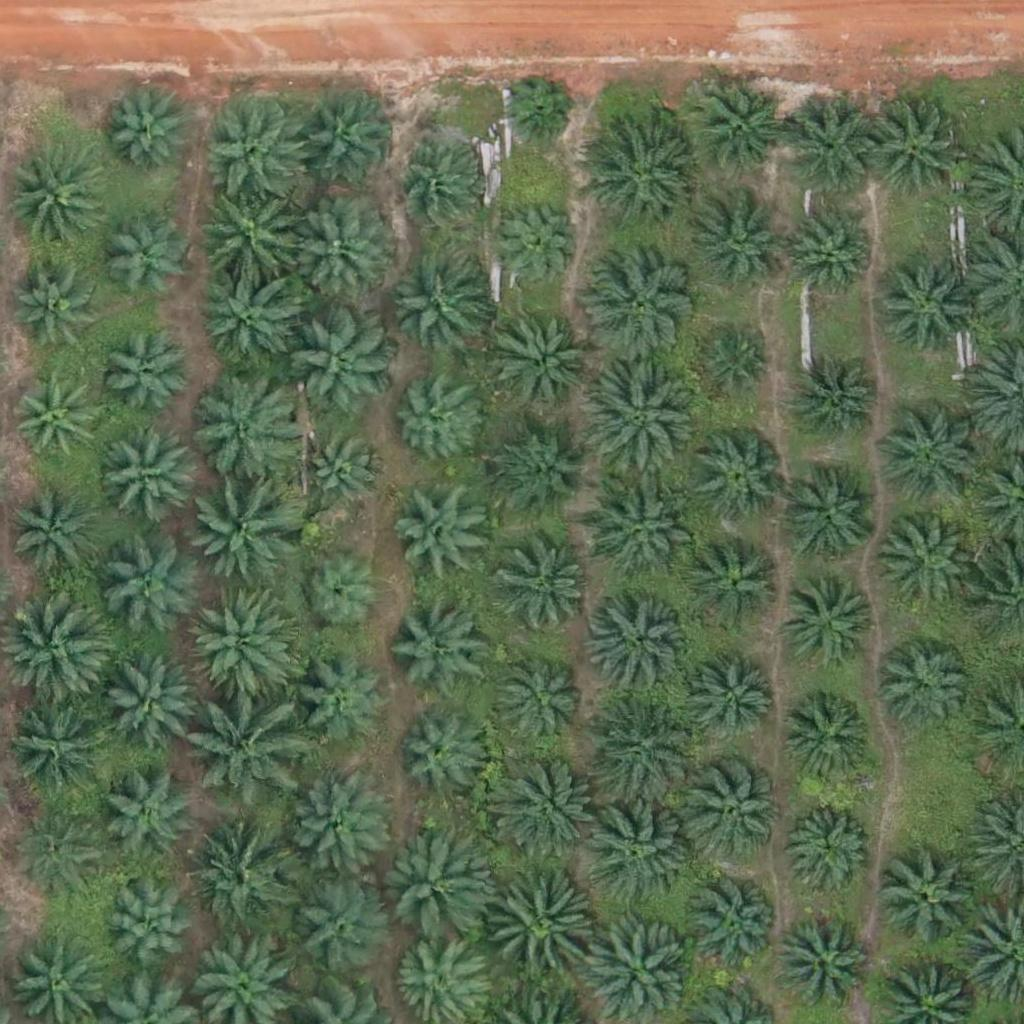Kelapa_Sawit: (487, 748, 600, 862), (579, 367, 692, 481), (581, 796, 694, 910), (198, 97, 311, 210), (187, 474, 300, 587), (184, 587, 297, 700), (579, 250, 692, 363), (584, 690, 697, 803), (191, 697, 303, 811), (181, 371, 293, 484), (481, 875, 593, 988), (582, 117, 694, 230), (9, 798, 109, 899), (5, 148, 105, 249), (11, 701, 111, 802), (96, 428, 196, 529), (101, 537, 201, 638), (105, 654, 205, 755), (98, 766, 198, 867), (202, 195, 302, 296), (202, 265, 302, 366), (189, 830, 289, 931), (284, 778, 384, 879), (290, 200, 390, 301), (291, 92, 391, 193), (377, 829, 477, 930), (490, 308, 590, 409), (588, 487, 688, 588), (590, 596, 690, 697), (688, 531, 788, 632), (695, 82, 795, 183), (777, 576, 877, 677), (877, 847, 977, 948), (872, 640, 972, 741), (875, 515, 975, 616), (883, 407, 983, 508), (877, 257, 977, 358), (864, 98, 964, 199), (293, 310, 393, 410), (388, 258, 488, 358), (391, 475, 491, 575), (389, 591, 489, 691), (284, 876, 384, 976), (487, 647, 587, 747), (494, 534, 594, 634), (493, 426, 593, 526), (688, 758, 788, 858), (687, 426, 787, 526), (783, 100, 883, 200), (788, 353, 888, 453), (781, 469, 881, 569), (781, 690, 881, 790), (680, 879, 780, 979), (774, 913, 874, 1013), (9, 379, 97, 468), (495, 201, 583, 290), (13, 273, 101, 361), (102, 217, 190, 305), (296, 554, 384, 642), (300, 430, 388, 518), (389, 375, 477, 463), (784, 800, 872, 888), (100, 90, 187, 179), (294, 659, 381, 748), (792, 208, 879, 297), (7, 495, 94, 583), (101, 333, 188, 421), (107, 890, 194, 978), (396, 148, 483, 236), (397, 708, 484, 796), (684, 656, 771, 744), (695, 207, 782, 295), (696, 329, 771, 405), (502, 75, 577, 150)
